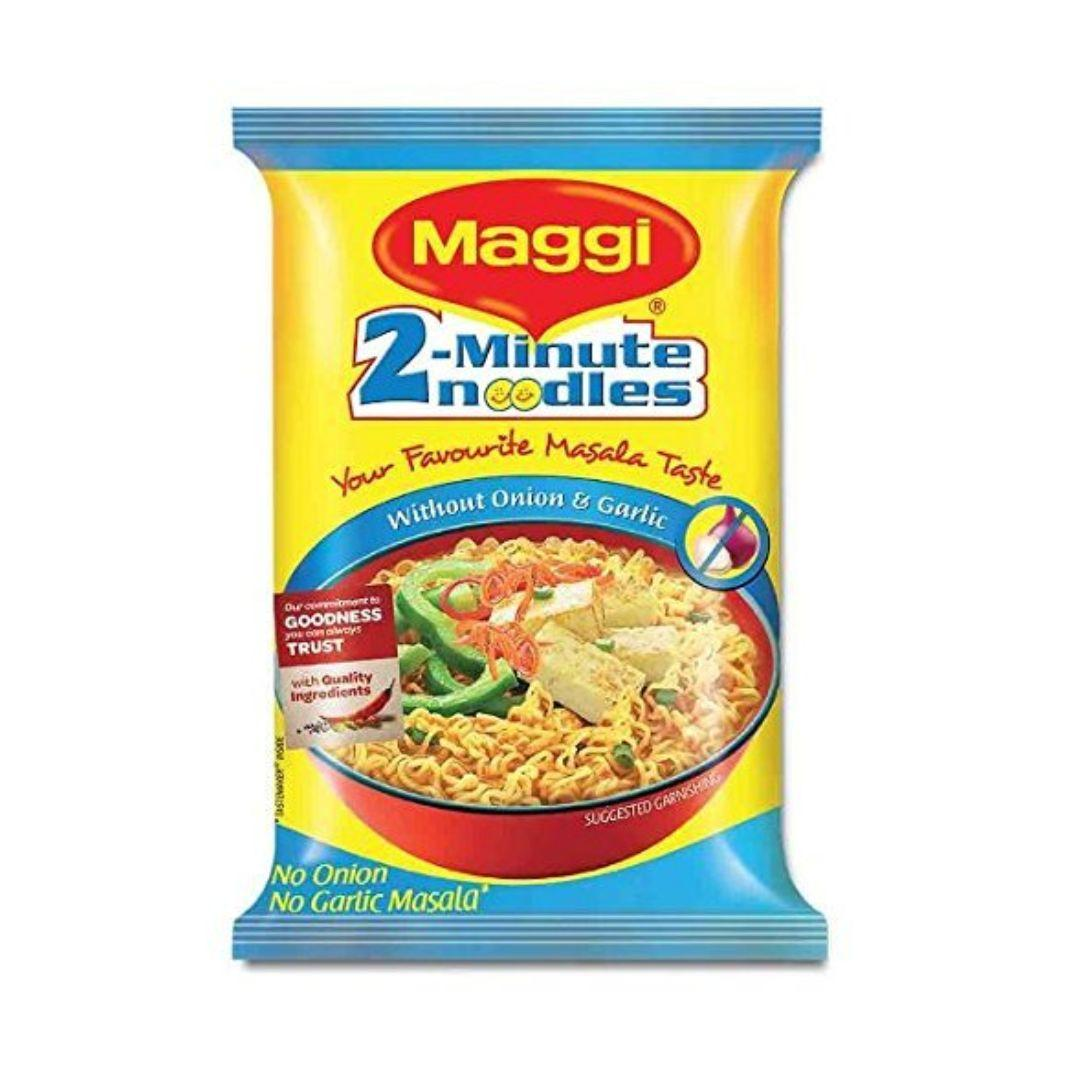Maggi: (224, 101, 827, 965)
